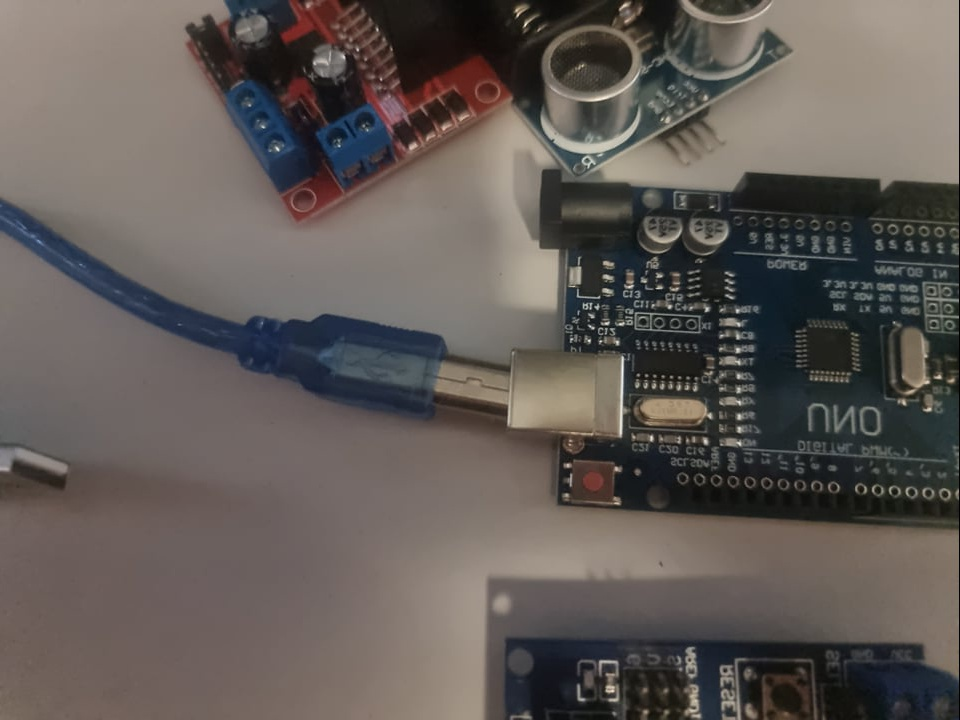5V EXPANSION: (496, 638, 960, 720)
MOTOR: (173, 1, 513, 222)
SENSOR: (516, 1, 795, 172)
UNO R3: (508, 169, 960, 544)
